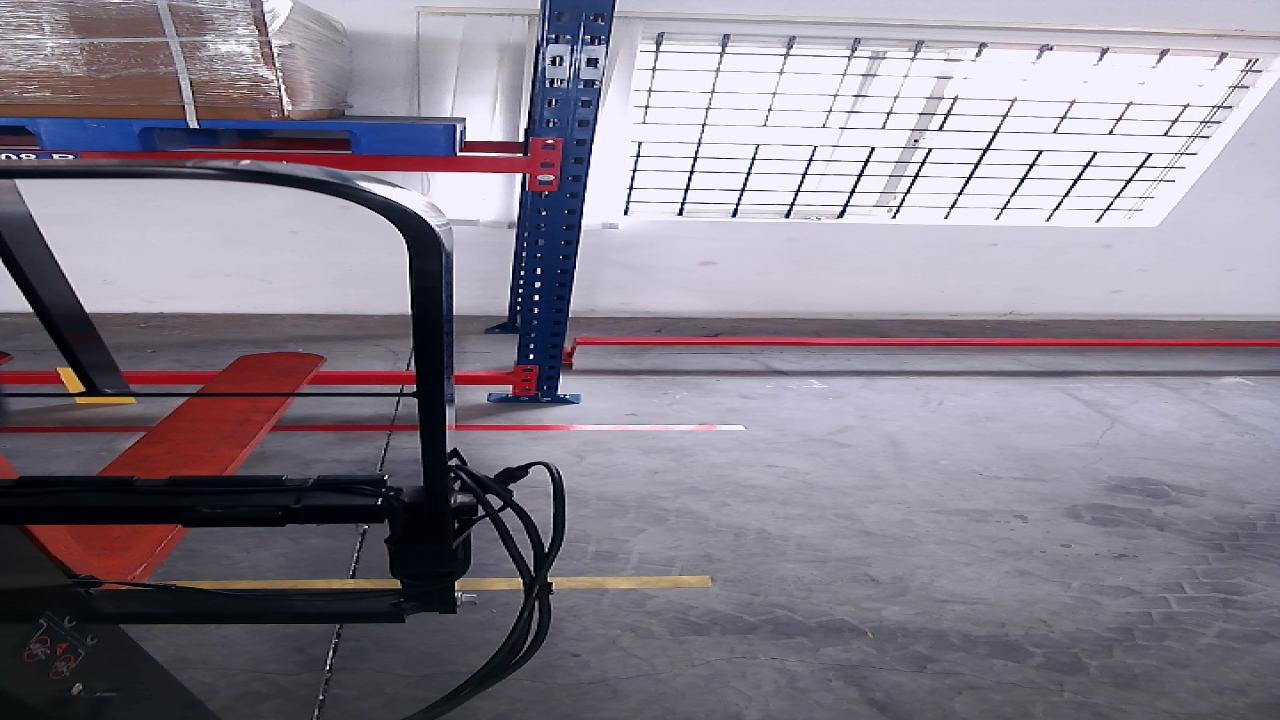h_rack: (6, 150, 524, 172), (0, 374, 508, 384)
red_line: (4, 425, 746, 433)
small_pallet: (0, 119, 462, 156)
